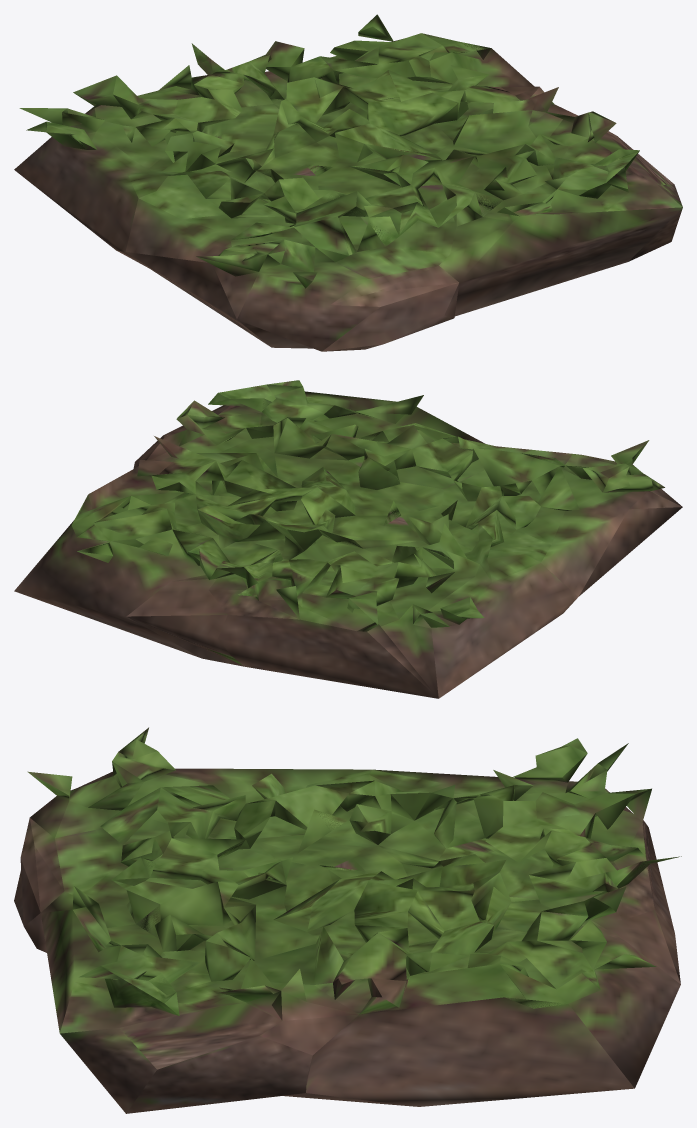
File: CressPlot_lod.glb
The picture shows the model from 3 angles, top to bottom: view 1: azimuth 30°, elevation 25°; view 2: azimuth 150°, elevation 25°; view 3: azimuth 270°, elevation 25°; orthographic projection. The views are drawn at different scales.
Visible parts, largest first — view 1: CressPlot; view 2: CressPlot; view 3: CressPlot.
Part boxes in pixels (box(x1,y1,x2,y2)): CressPlot: box(14, 14, 682, 351); CressPlot: box(14, 380, 682, 698); CressPlot: box(14, 727, 681, 1113).
Size of the model in its own units: 0.9662 by 0.2046 by 0.9601.
1 material, 1 textured.
